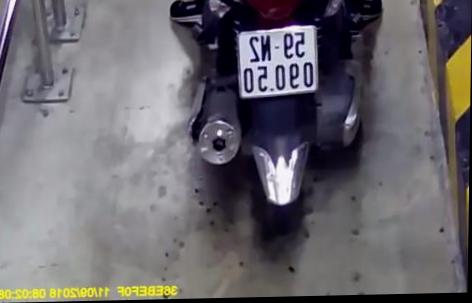License_Plate: (234, 21, 324, 102)
